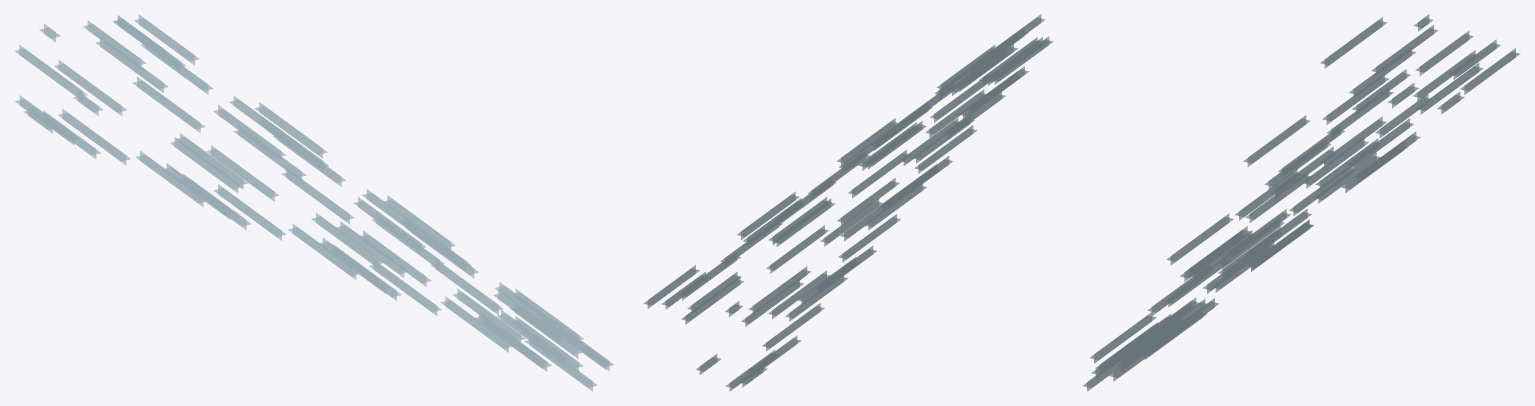
The model's file is wp_water_317.obj.
The picture shows the model from 3 angles, left to right: view 1: azimuth 30°, elevation 25°; view 2: azimuth 150°, elevation 25°; view 3: azimuth 330°, elevation 25°; orthographic projection. The views are drawn at different scales.
Size of the model in its own units: 0.3484 by 0.2506 by 1.75.
1 material, 1 textured.
